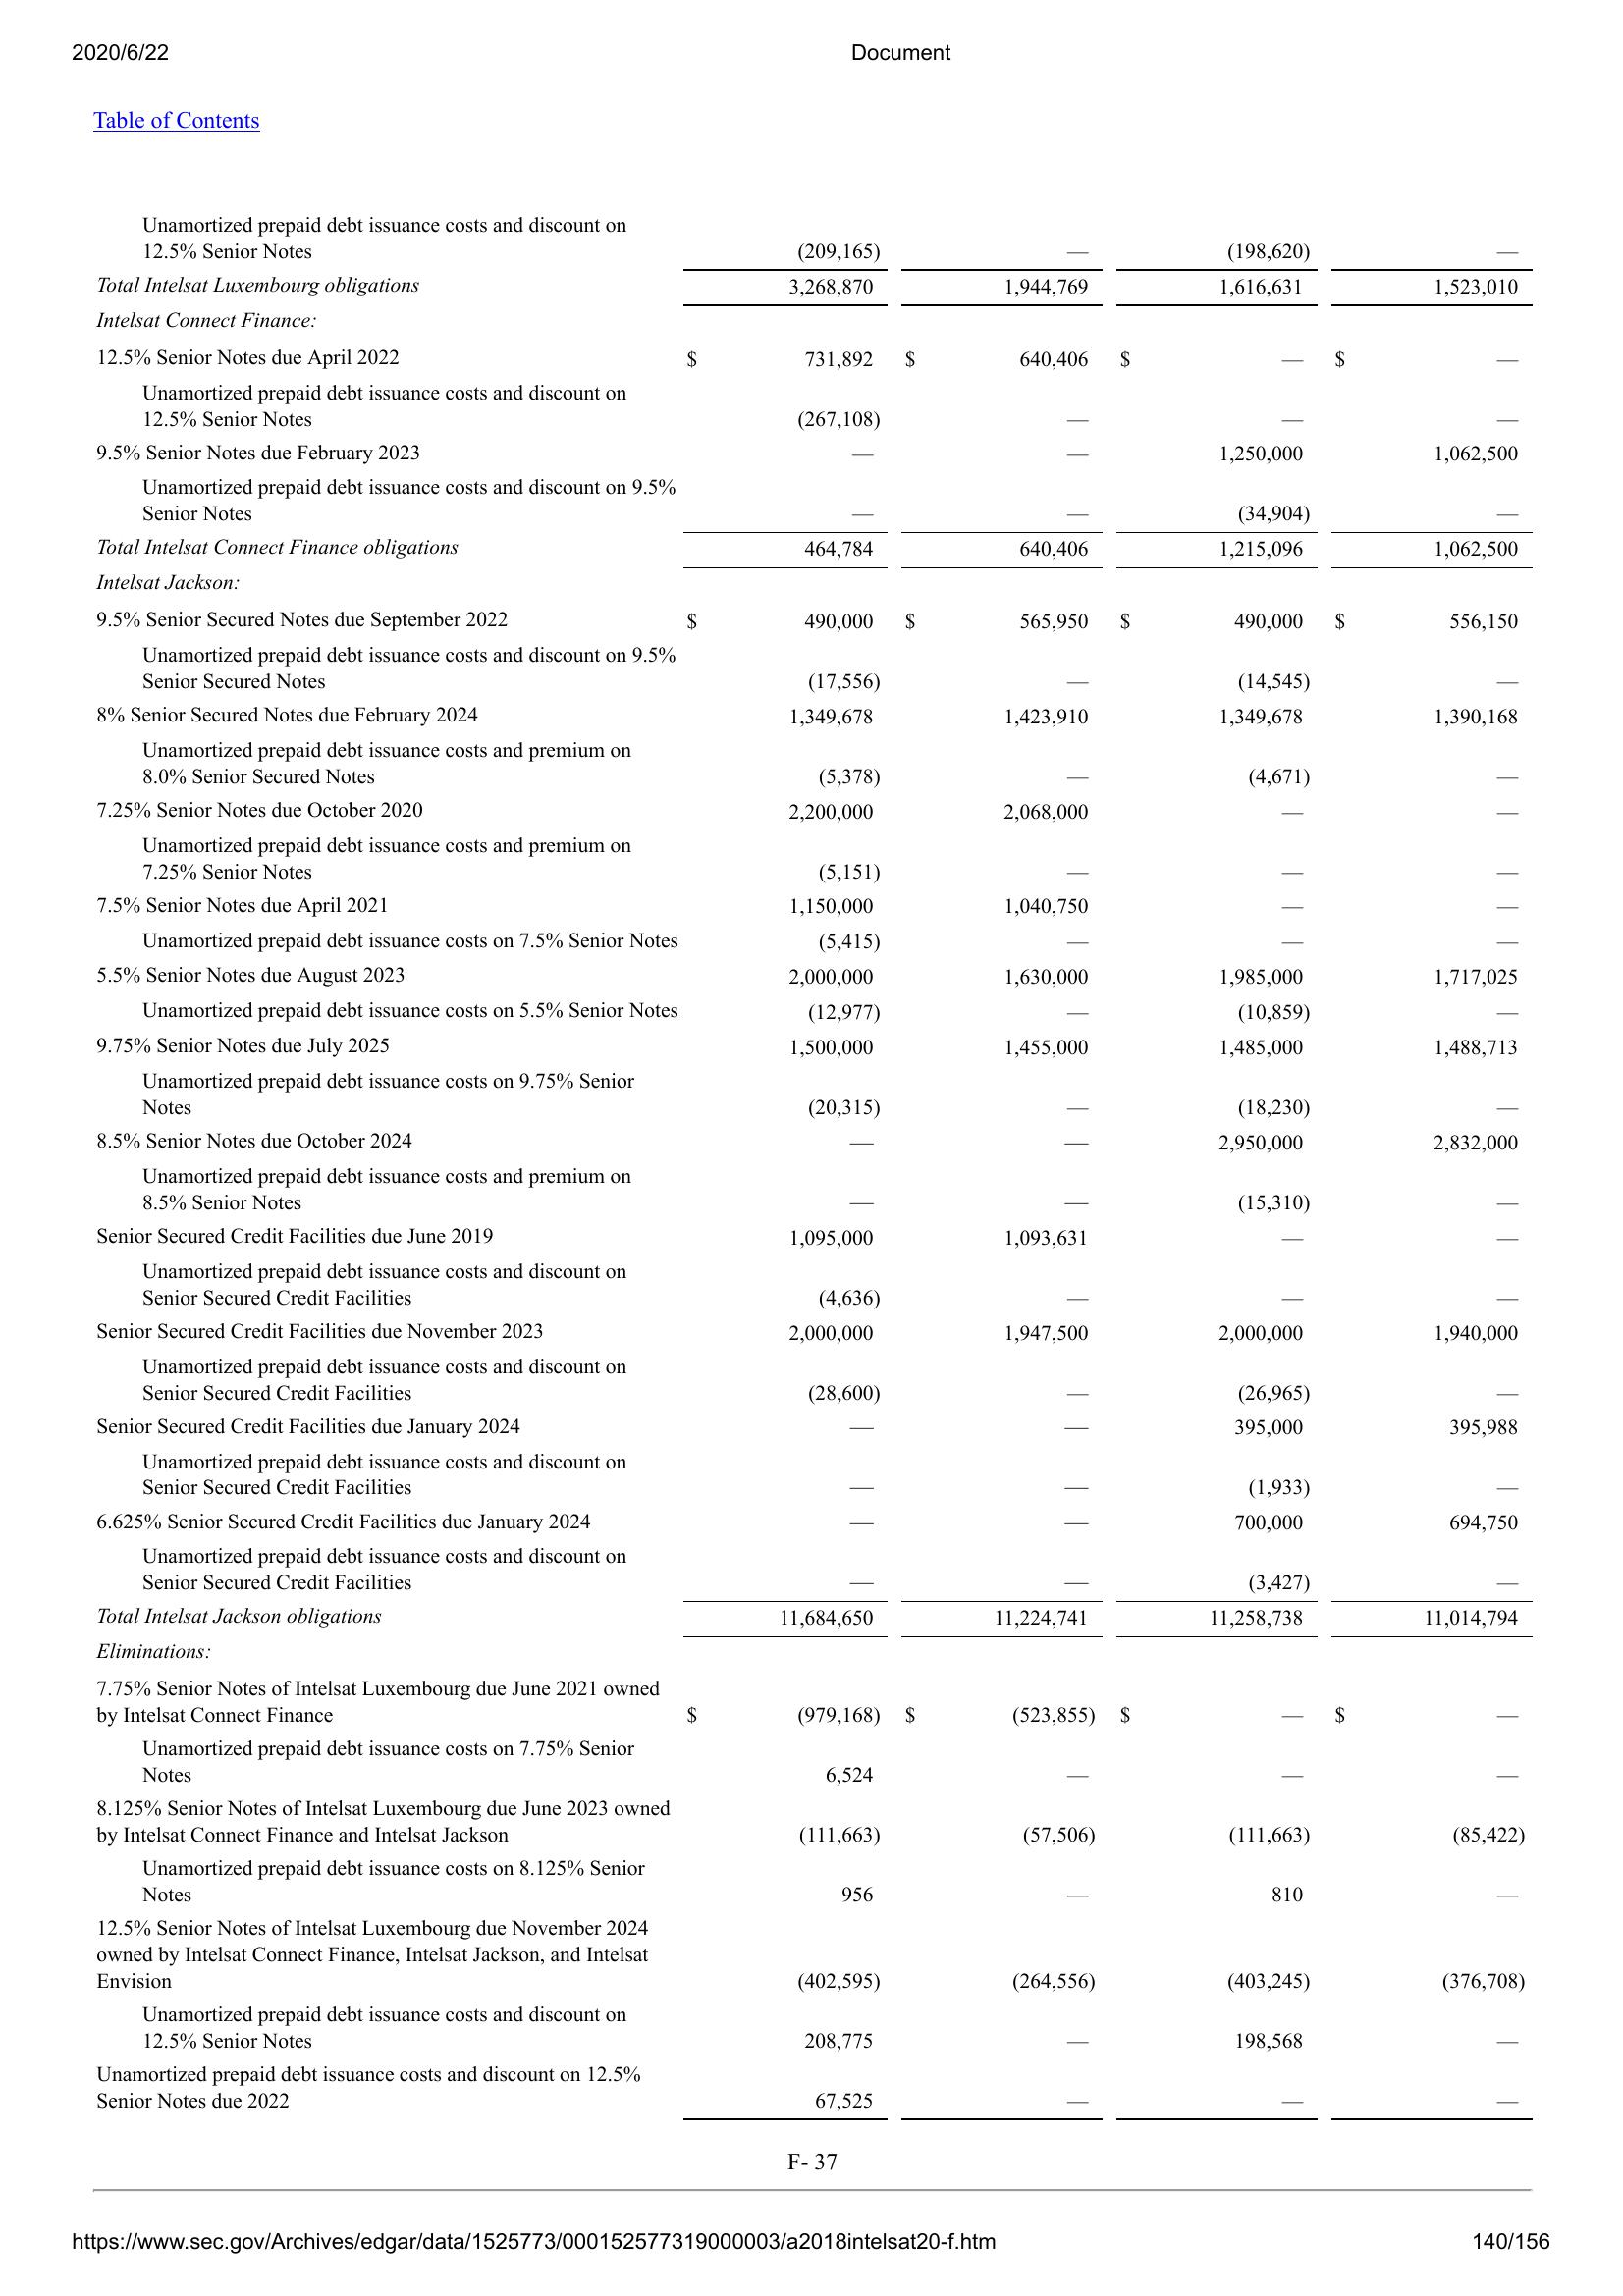table: (58, 190, 1546, 2124)
